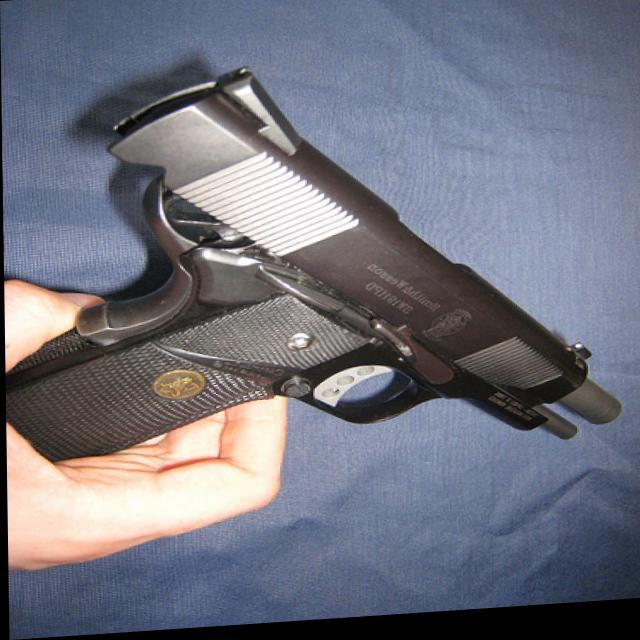handgun: (11, 52, 622, 481)
